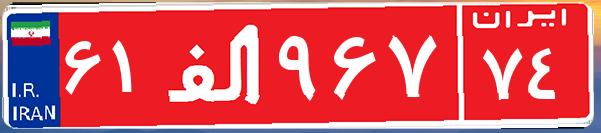1: (110, 28, 158, 105)
4: (525, 38, 570, 115)
6: (330, 28, 385, 110), (57, 26, 110, 107)
7: (385, 28, 445, 110), (475, 38, 525, 113)
9: (273, 28, 330, 110)
الف: (158, 15, 273, 115)
